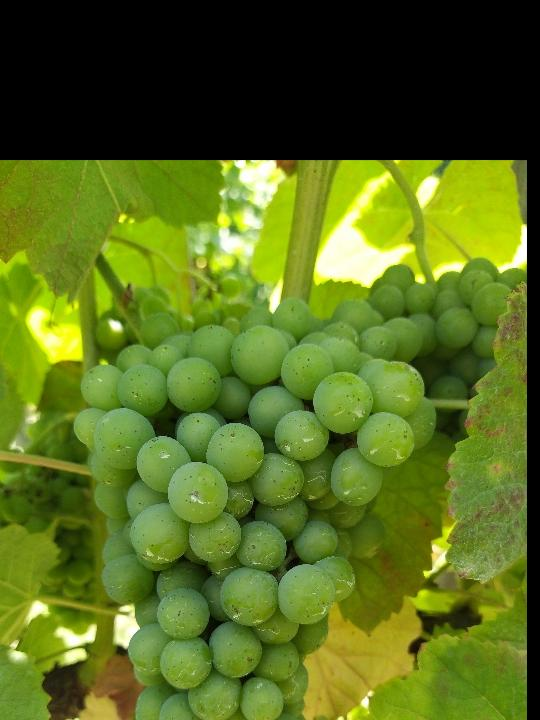grape: (69, 323, 440, 720)
